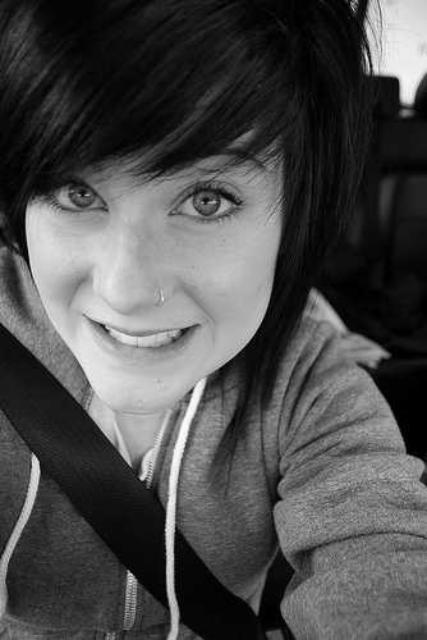SafeDriving: (158, 159, 257, 234), (32, 162, 120, 226)
Seatbelt: (0, 318, 272, 640)
